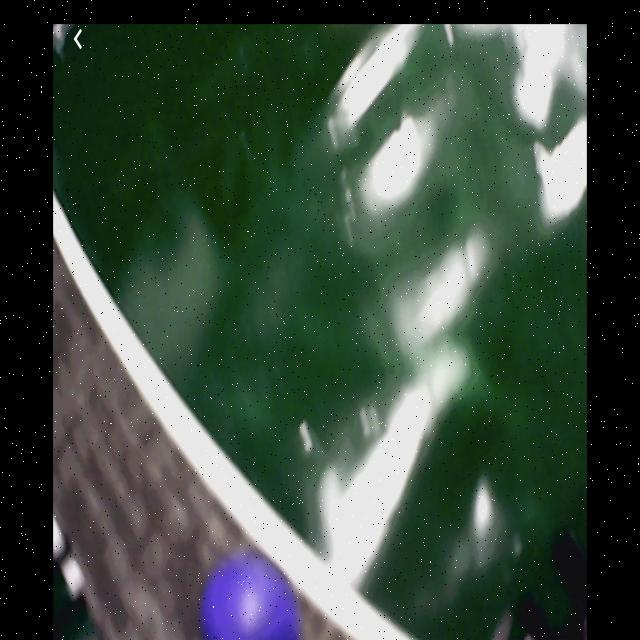ball: (200, 556, 301, 640)
